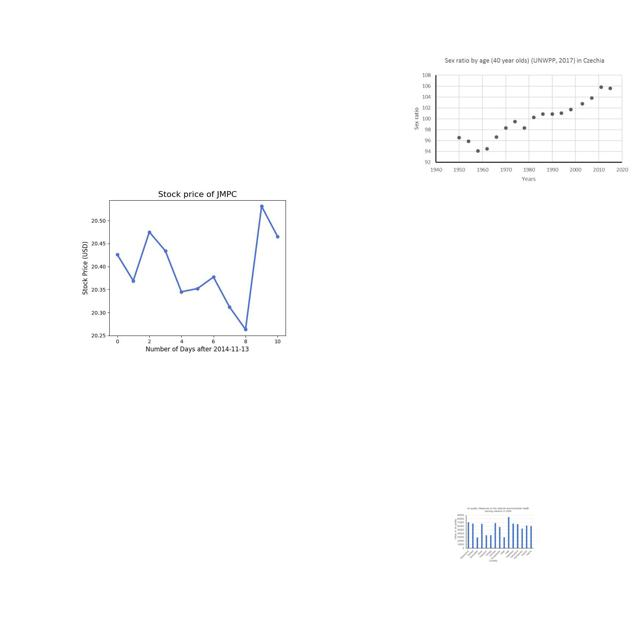Graph: (77, 179, 312, 355), (407, 52, 631, 183), (452, 506, 535, 564)
